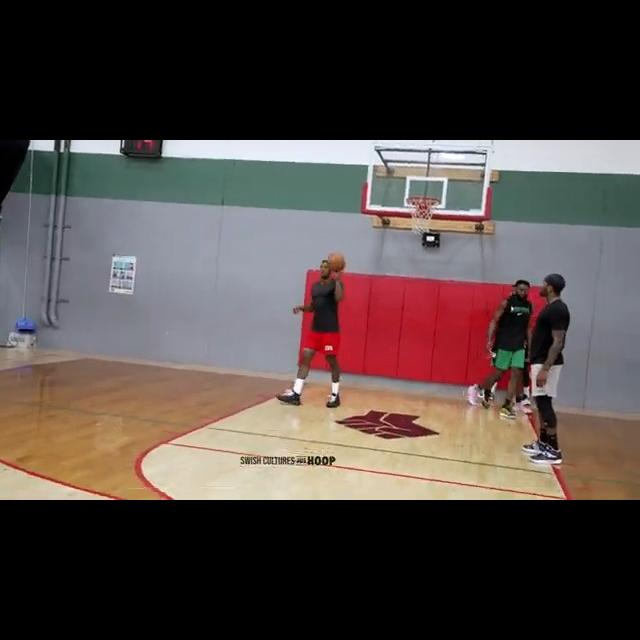basketball: (326, 251, 347, 272)
hoop: (404, 196, 441, 236)
person: (275, 258, 348, 411), (463, 270, 529, 418), (526, 273, 572, 468)
